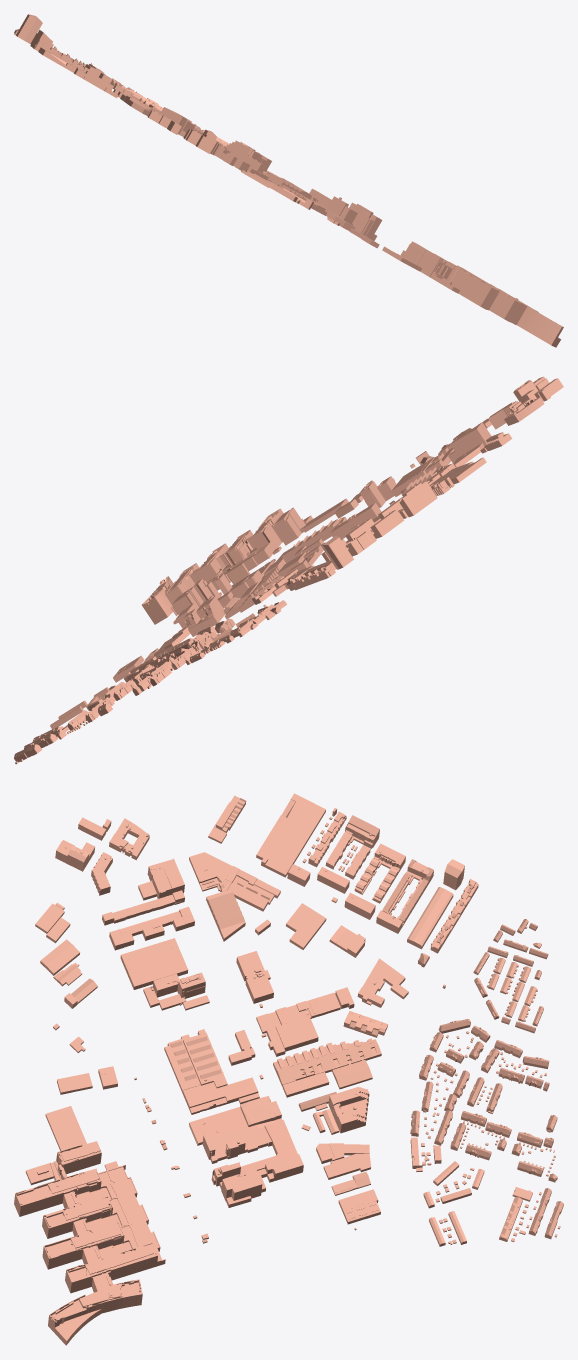
3 views of the same model, one above another, from view 1: azimuth 30°, elevation 25°; view 2: azimuth 150°, elevation 25°; view 3: azimuth 270°, elevation 25° (orthographic). The views are drawn at different scales.
Bounding box in the file's own units: 2.04e+07 × 1.5e+07 × 2.2e+07.
